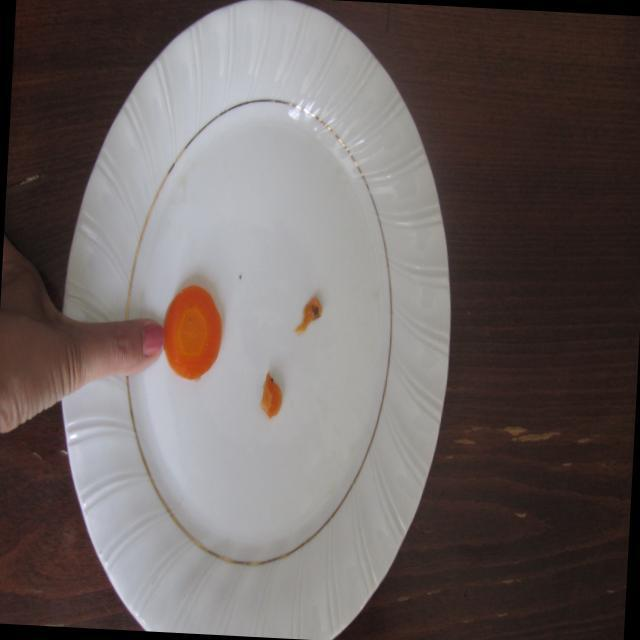Carrot: (157, 281, 230, 388)
Finger: (103, 310, 167, 390)
